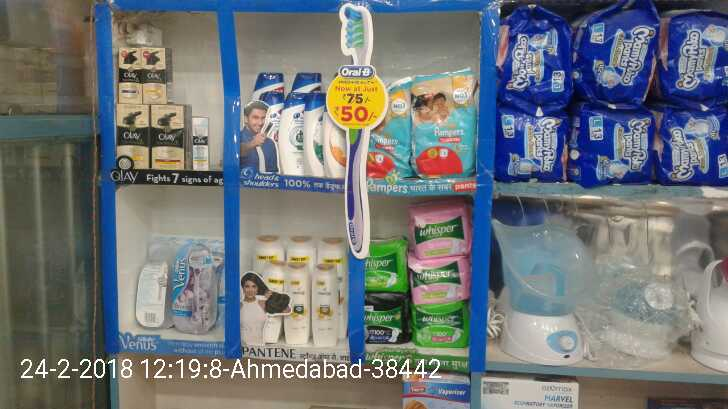venus: (175, 239, 226, 334), (134, 233, 170, 330)
